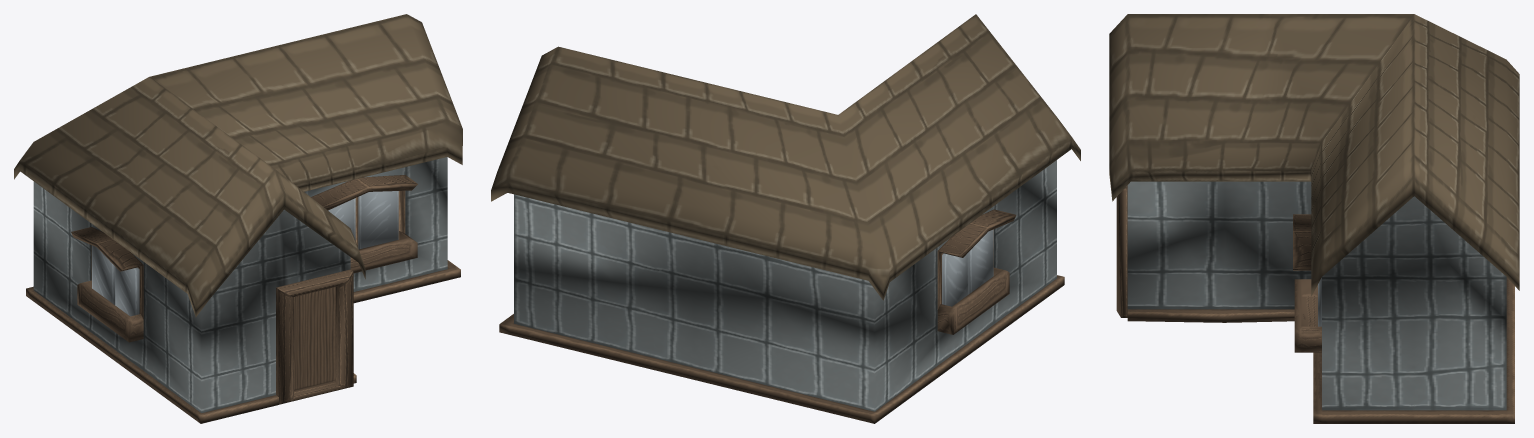
File: casa4.fbx
3 renders of one model, left to right at view 1: azimuth 30°, elevation 25°; view 2: azimuth 150°, elevation 25°; view 3: azimuth 270°, elevation 25°, orthographic. The views are drawn at different scales.
Visible parts, largest first — view 1: Cube; view 2: Cube; view 3: Cube.
Boxes of the visible parts, x1=… form: Cube: x1=14, y1=14, x2=462, y2=423; Cube: x1=491, y1=14, x2=1080, y2=423; Cube: x1=1109, y1=14, x2=1519, y2=423.
Size of the model in its own units: 10.77 by 6.51 by 9.21.
